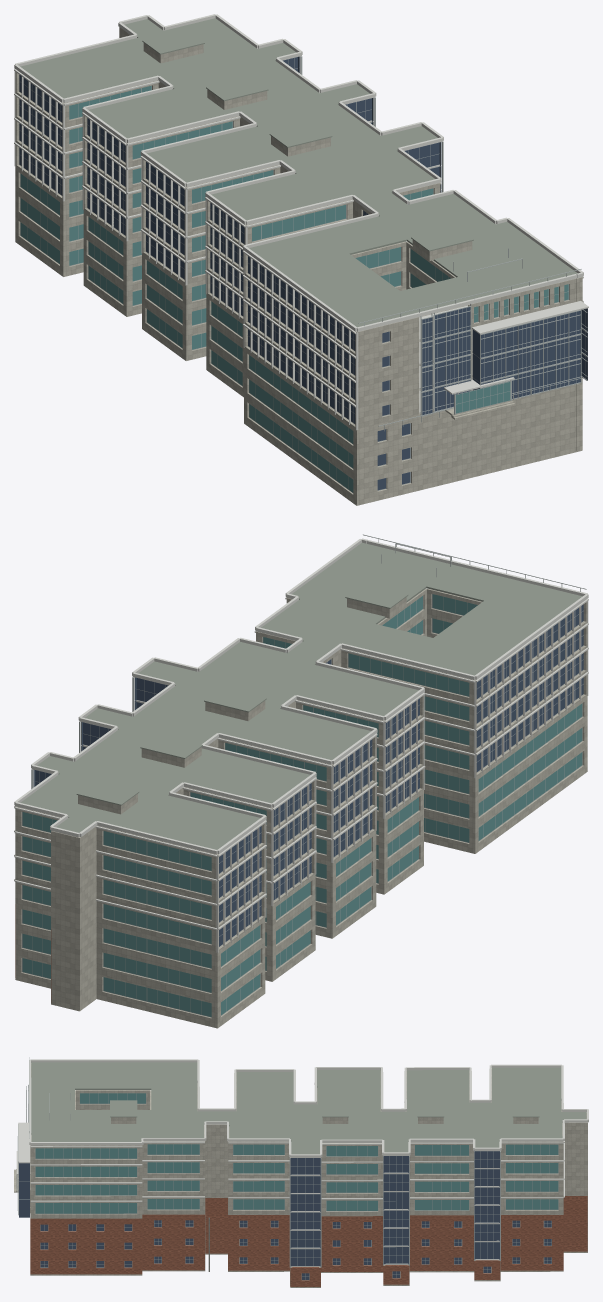
3 views of the same model, one above another, from view 1: azimuth 30°, elevation 25°; view 2: azimuth 150°, elevation 25°; view 3: azimuth 270°, elevation 25° (orthographic). The views are drawn at different scales.
Parts seen in each view (by area): view 1: mirae__roofTop, mirae__paleStone, mirae__lightTrim, mirae__blueglass, mirae__tealglass, mirae__silverFrame; view 2: mirae__roofTop, mirae__paleStone, mirae__tealglass, mirae__lightTrim, mirae__blueglass, mirae__silverFrame; view 3: mirae__roofTop, mirae__brick, mirae__paleStone, mirae__tealglass, mirae__blueglass, mirae__lightTrim, mirae__silverFrame.
Part boxes in pixels (bbox=[...]): mirae__roofTop: bbox=[20, 18, 577, 327]; mirae__paleStone: bbox=[15, 27, 582, 505]; mirae__lightTrim: bbox=[14, 14, 588, 430]; mirae__blueglass: bbox=[19, 56, 587, 490]; mirae__tealglass: bbox=[20, 85, 568, 492]; mirae__silverFrame: bbox=[19, 56, 587, 492]; mirae__roofTop: bbox=[20, 542, 582, 849]; mirae__paleStone: bbox=[15, 588, 587, 1028]; mirae__tealglass: bbox=[22, 594, 582, 1016]; mirae__lightTrim: bbox=[14, 538, 588, 952]; mirae__blueglass: bbox=[33, 604, 583, 946]; mirae__silverFrame: bbox=[22, 534, 586, 1017]; mirae__roofTop: bbox=[31, 1062, 586, 1154]; mirae__brick: bbox=[30, 1196, 587, 1286]; mirae__paleStone: bbox=[30, 1063, 587, 1287]; mirae__tealglass: bbox=[35, 1093, 558, 1213]; mirae__blueglass: bbox=[19, 1151, 551, 1279]; mirae__lightTrim: bbox=[16, 1059, 588, 1266]; mirae__silverFrame: bbox=[16, 1057, 558, 1280].
Bounding box in the file's own units: 42.93 × 30.29 × 109.
Materials: 8 (3 with a texture image).
